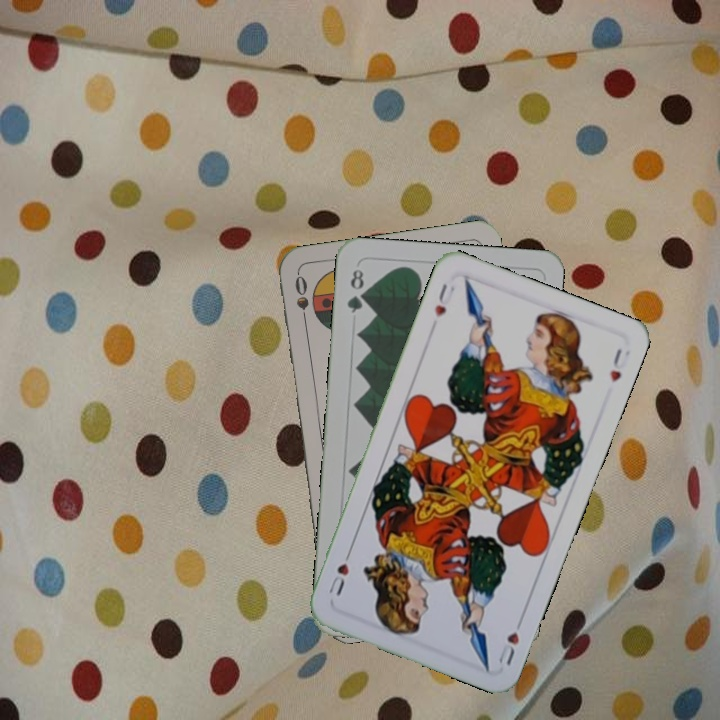G8: (343, 265, 368, 316)
HU: (494, 613, 526, 668), (430, 278, 458, 320)
SO: (291, 271, 311, 330)
